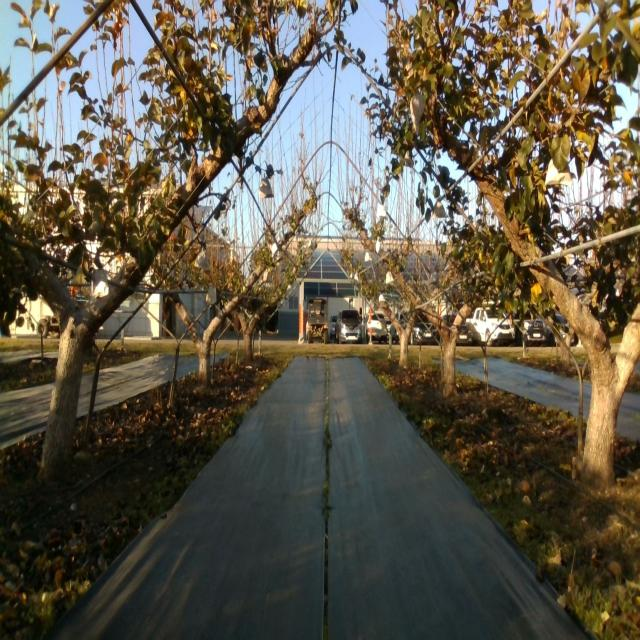pearbags: (544, 158, 572, 186), (410, 94, 424, 136), (91, 266, 109, 298), (258, 173, 274, 200), (195, 247, 210, 270), (432, 199, 446, 218)
